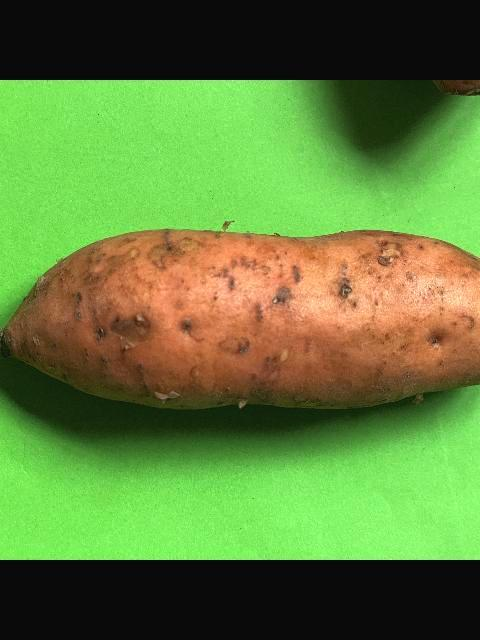sweetpotato: (0, 229, 480, 411)
